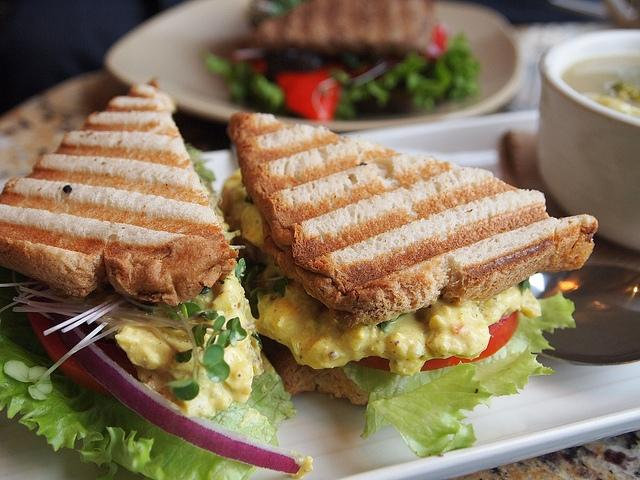lettuce: (2, 306, 296, 480), (371, 360, 492, 459), (164, 306, 230, 401), (516, 290, 577, 353), (200, 50, 254, 106), (332, 83, 372, 121), (417, 56, 452, 95), (193, 158, 214, 182)
onion: (49, 312, 303, 474)
tomato: (24, 313, 140, 398), (420, 310, 520, 372), (279, 70, 338, 120), (419, 18, 452, 60)
